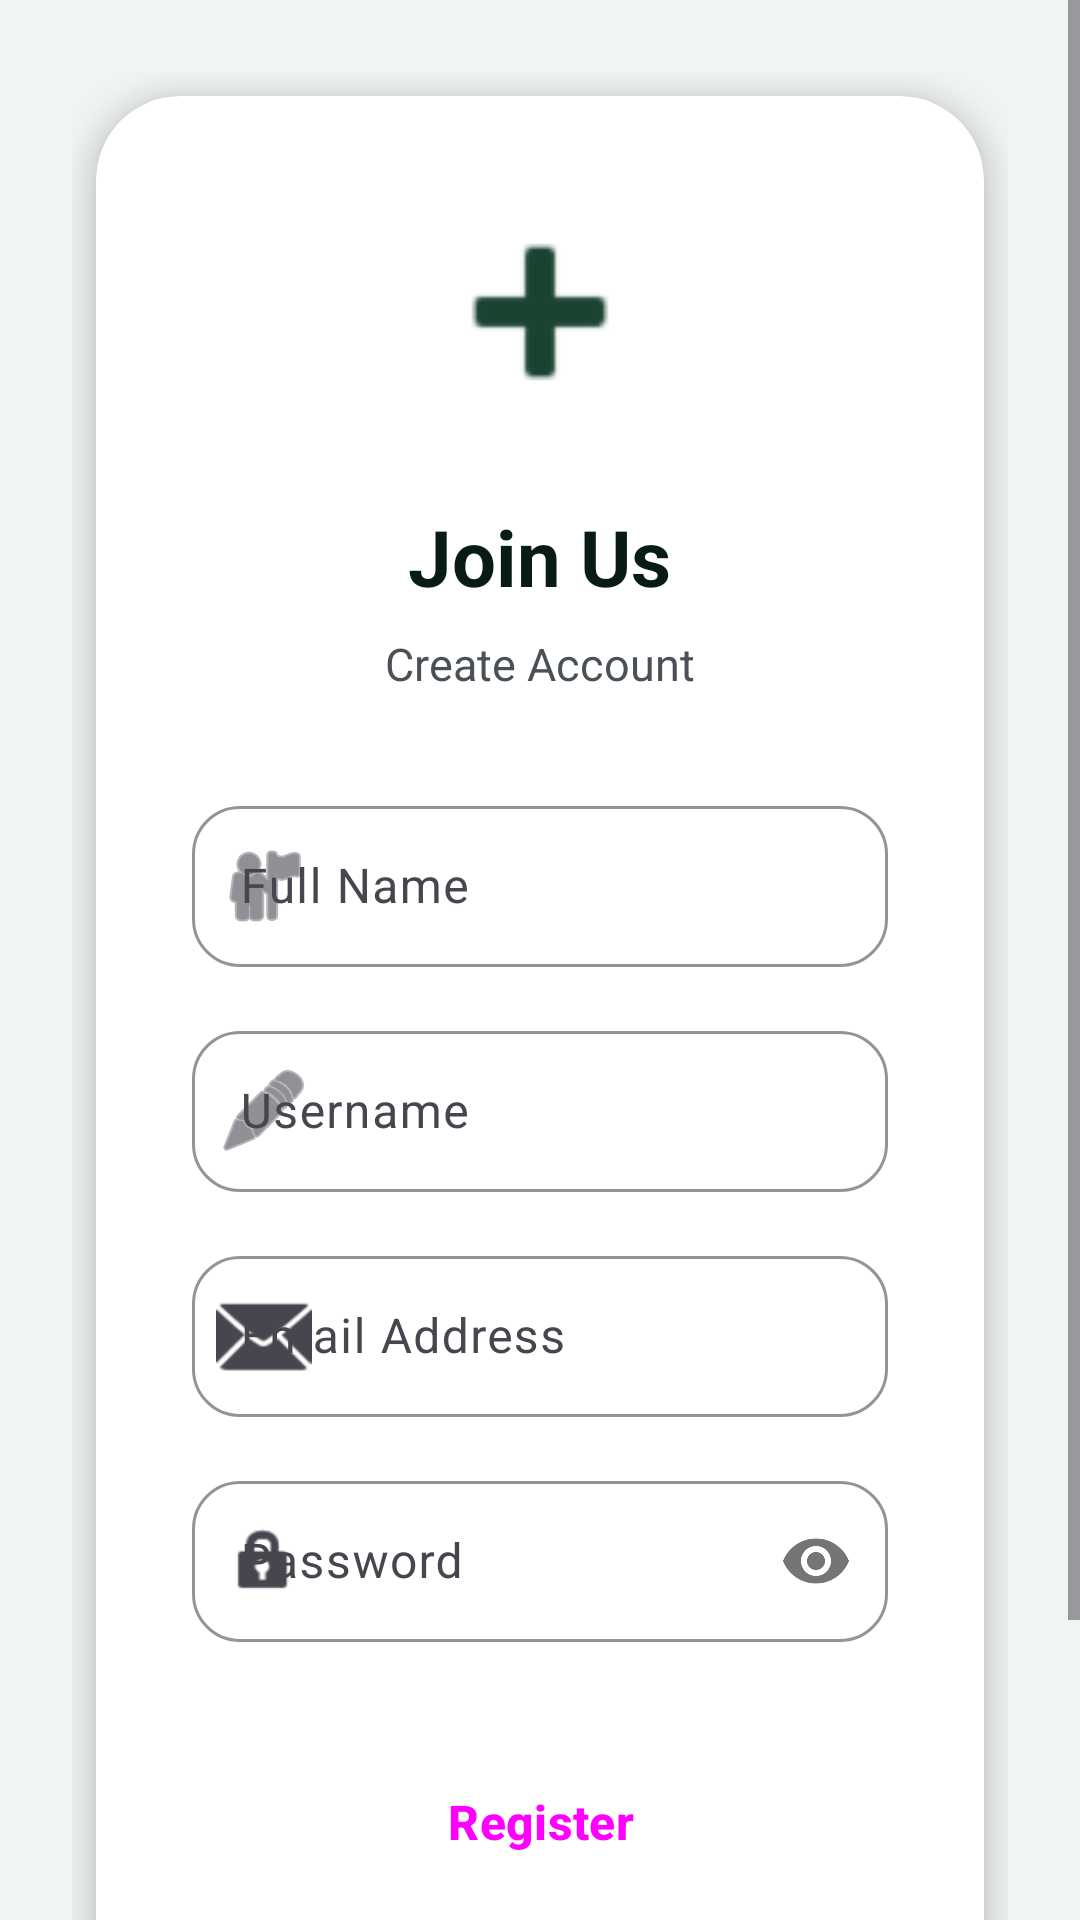

Icon click points for this 1080x1920 phone screenshot, format point (x, y):
add: point (540, 312)
